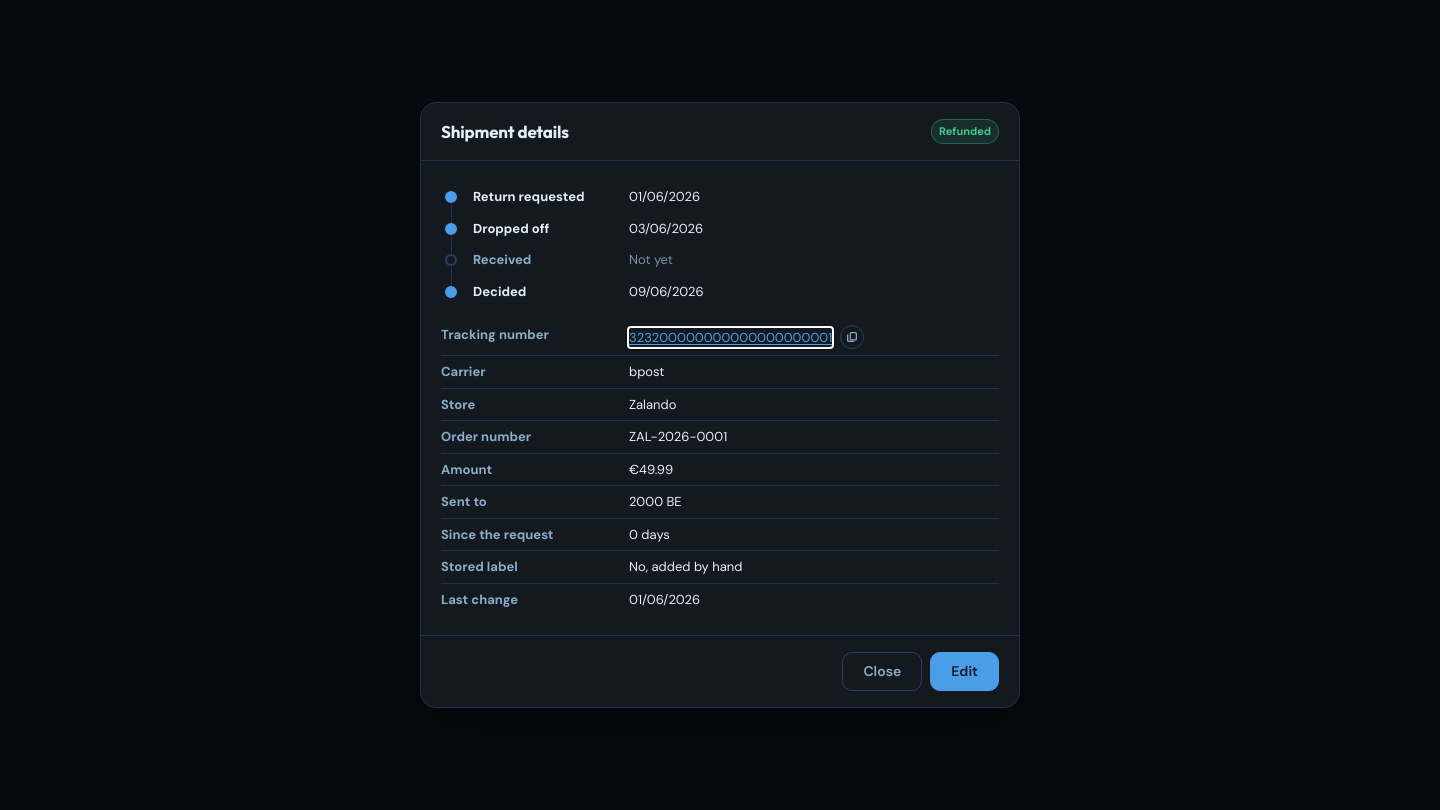
Test: correcting the dates › refuses an order the api would reject, before asking it
Click the button "Edit" at (965, 672), box [930,652,999,691]
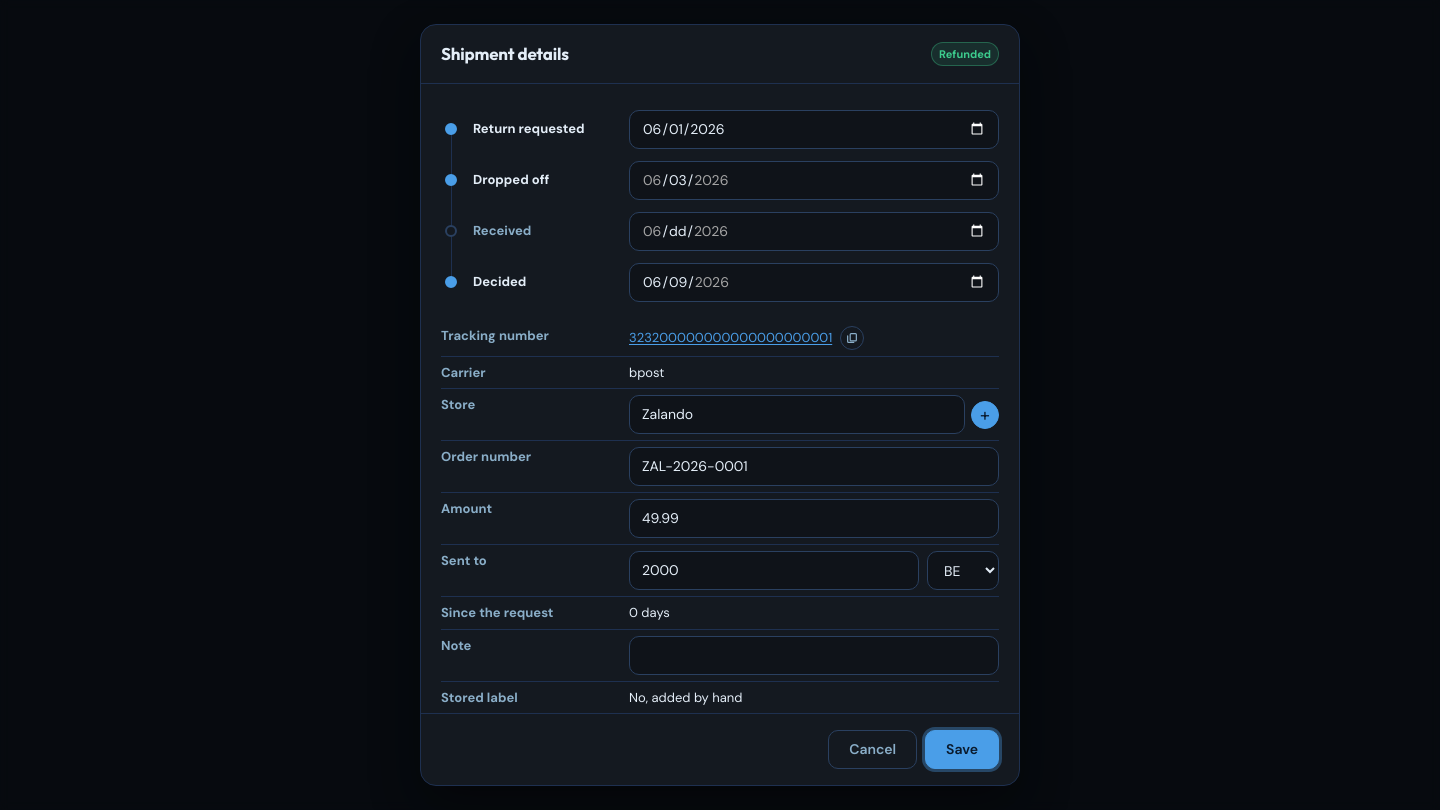
Type "2026-06-01" into the date field named "Received" at (814, 231), box [629,212,999,250]
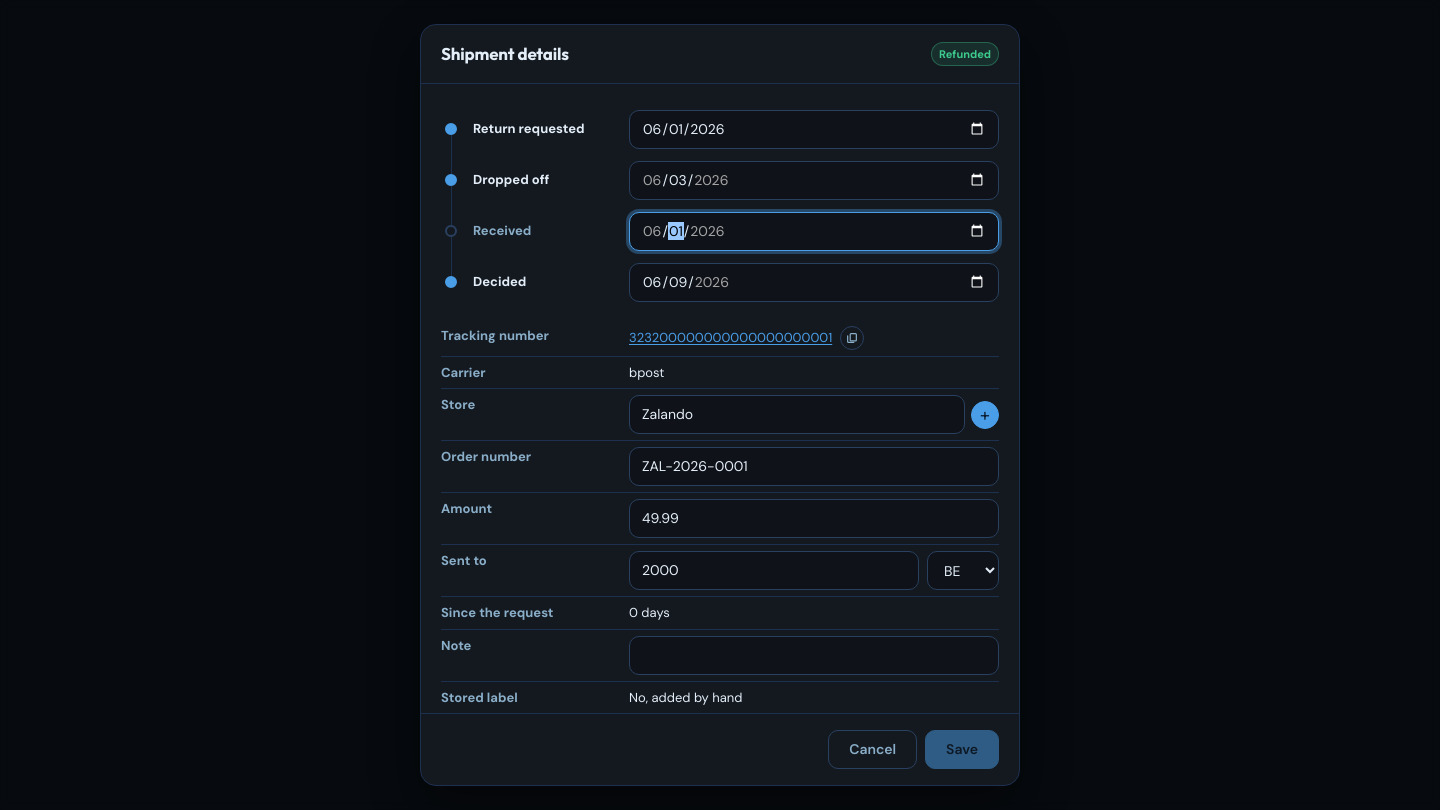
Now the button "Save" is disabled, box [925,730,999,769]
